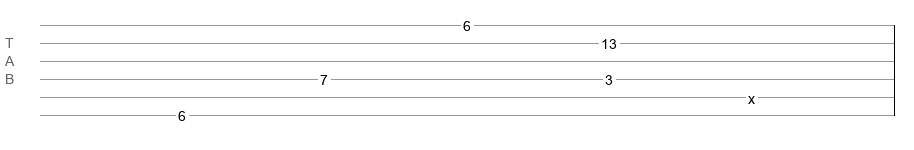13: (601, 36, 617, 46)
3: (605, 72, 613, 82)
6: (178, 108, 186, 118), (463, 18, 471, 28)
7: (320, 72, 328, 82)
x: (748, 91, 755, 99)
